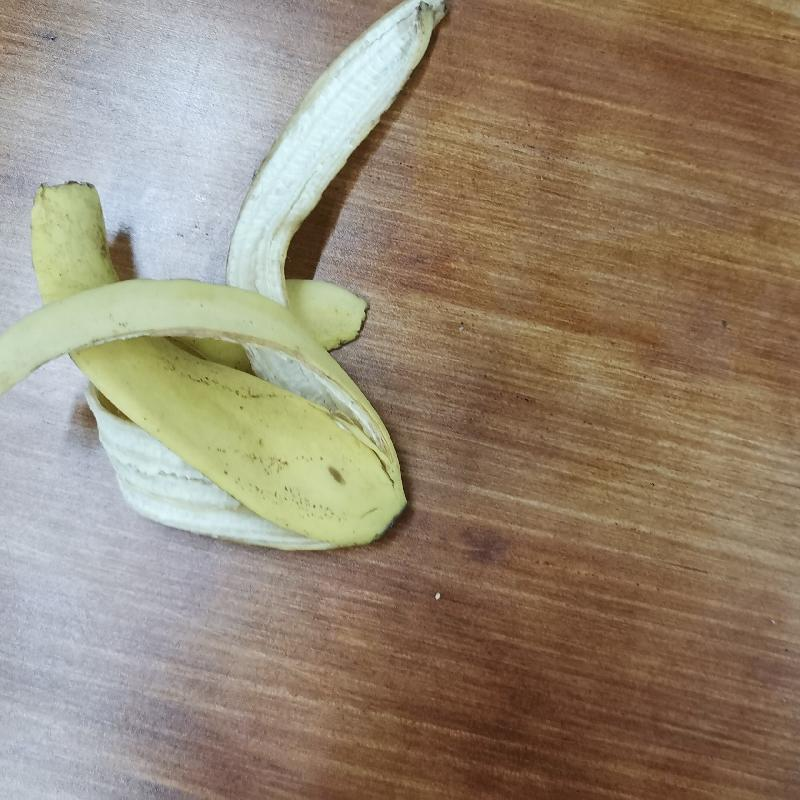bananas: (9, 3, 456, 554)
